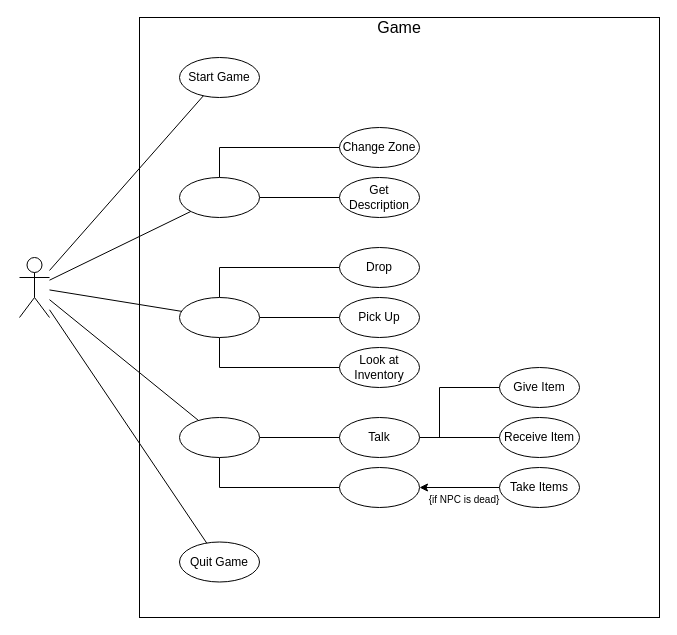
This 677x635 diagram has some shape labels left out. Here are the shapes that lost their labels. From the top down, the centre of each, then its label:
At point 219,197: "Navigate Zones".
At point 34,287: "Player".
At point 219,317: "Interact with Item".
At point 219,437: "Interact with NPC".
At point 379,487: "Attack".
